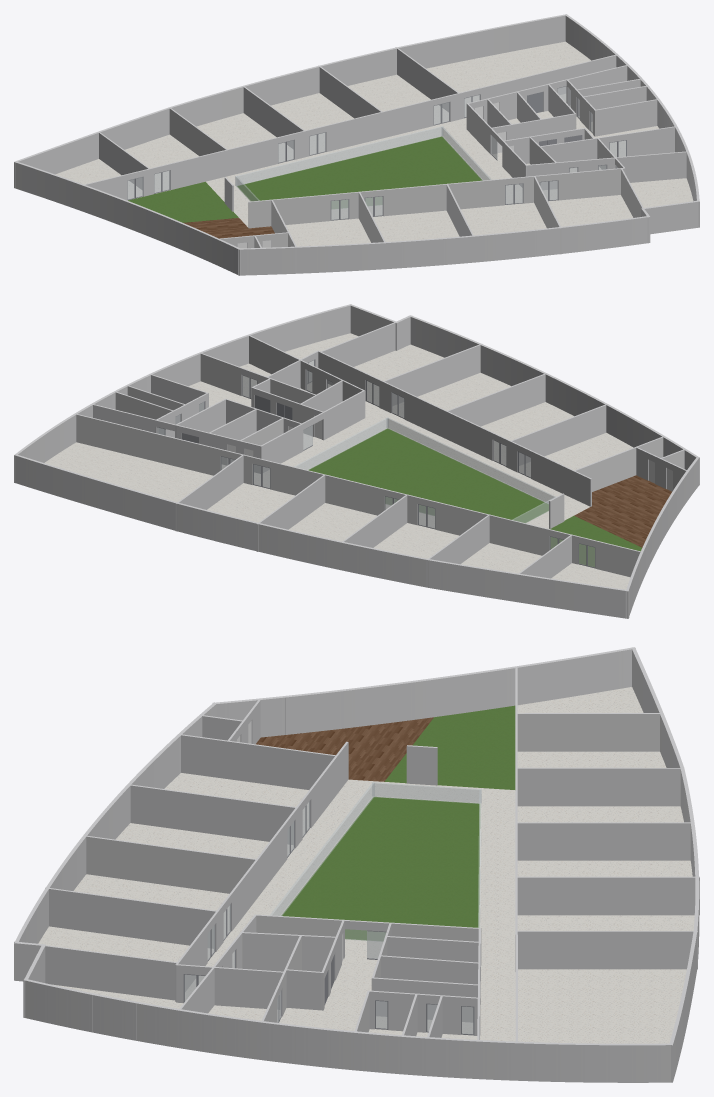
Rendered from floor7f.glb.
The picture shows the model from 3 angles, top to bottom: view 1: azimuth 30°, elevation 25°; view 2: azimuth 150°, elevation 25°; view 3: azimuth 270°, elevation 25°; orthographic projection. The views are drawn at different scales.
Parts seen in each view (by area): view 1: walls_m_0, floor_link, floor_atrium, doors_m_3, walls_m_1, doors_m_0, floor_region_grass_garden, doors_m_2, floor_region_wood_lounge; view 2: walls_m_0, floor_link, floor_atrium, floor_region_wood_lounge, walls_m_1, doors_m_3, doors_m_0, doors_m_2, floor_region_grass_garden, doors_m_4; view 3: walls_m_0, floor_link, floor_atrium, floor_region_grass_garden, floor_region_wood_lounge, walls_m_1, doors_m_3, doors_m_0, doors_m_2.
Boxes of the visible parts, bbox=[...] form: walls_m_0: bbox=[14, 14, 699, 275]; floor_link: bbox=[55, 41, 693, 246]; floor_atrium: bbox=[237, 136, 482, 208]; doors_m_3: bbox=[127, 86, 626, 219]; walls_m_1: bbox=[235, 126, 491, 208]; doors_m_0: bbox=[126, 79, 626, 243]; floor_region_grass_garden: bbox=[128, 181, 238, 222]; doors_m_2: bbox=[127, 86, 626, 220]; floor_region_wood_lounge: bbox=[183, 218, 274, 238]; walls_m_0: bbox=[14, 304, 699, 618]; floor_link: bbox=[44, 333, 633, 589]; floor_atrium: bbox=[308, 428, 548, 522]; floor_region_wood_lounge: bbox=[574, 475, 671, 547]; walls_m_1: bbox=[294, 417, 555, 523]; doors_m_3: bbox=[157, 360, 594, 567]; doors_m_0: bbox=[155, 352, 673, 546]; doors_m_2: bbox=[157, 359, 595, 568]; floor_region_grass_garden: bbox=[550, 516, 641, 566]; doors_m_4: bbox=[227, 416, 672, 491]; walls_m_0: bbox=[14, 647, 699, 1082]; floor_link: bbox=[38, 687, 694, 1043]; floor_atrium: bbox=[281, 796, 480, 940]; floor_region_grass_garden: bbox=[384, 705, 515, 789]; floor_region_wood_lounge: bbox=[256, 717, 433, 781]; walls_m_1: bbox=[270, 782, 481, 941]; doors_m_3: bbox=[184, 801, 473, 1034]; doors_m_0: bbox=[183, 697, 517, 1006]; doors_m_2: bbox=[183, 800, 474, 1035].
Bounding box in the file's own units: 61.43 × 2.71 × 44.72.
9 materials, 4 textured.
